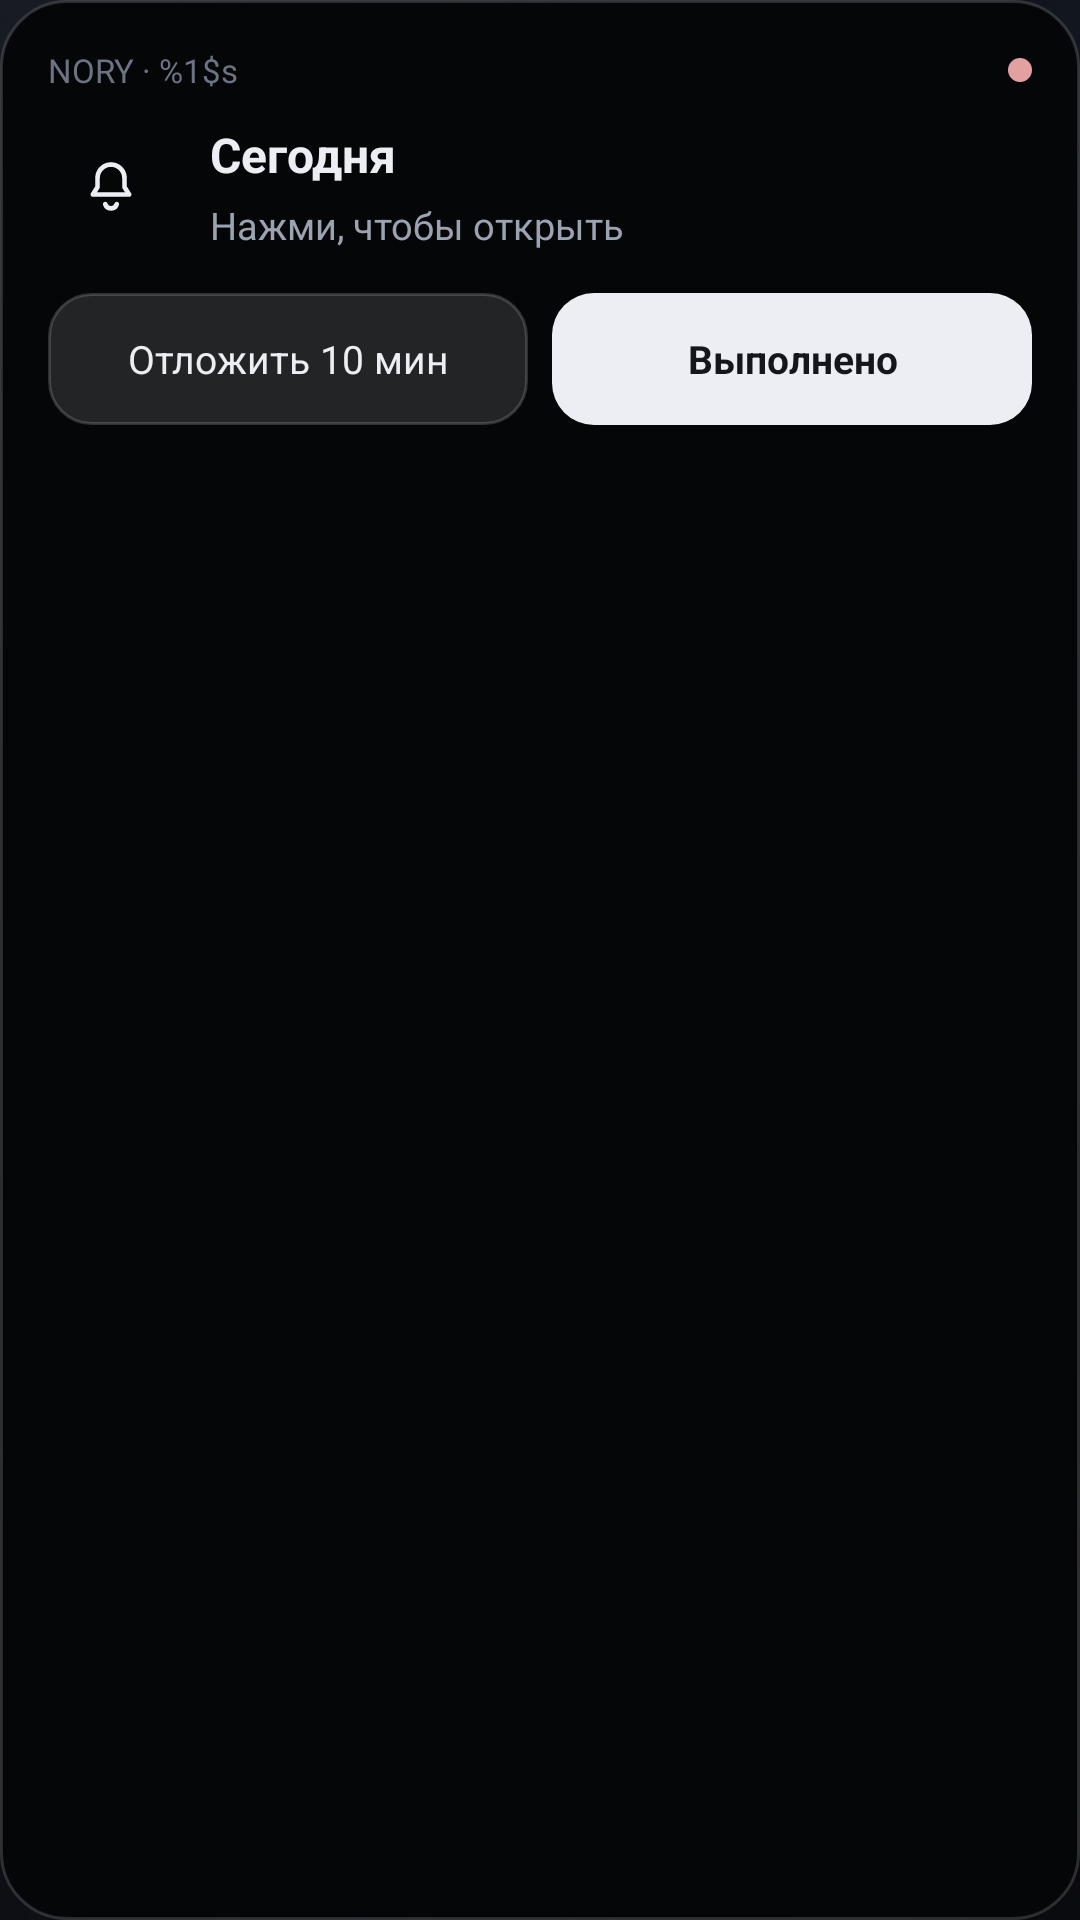

Icons on this 1080 x 1920 Android screen, each with the point to tap as [x,y]:
bell: [111,186]
